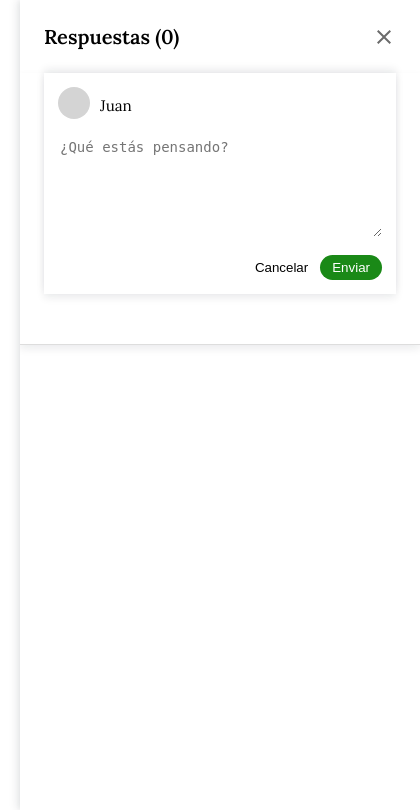
ItemComment › cancela y limpia el textarea
In the text box with placeholder "¿Qué estás pensando?": (220, 187) [58,137,382,237], type "texto temporal"
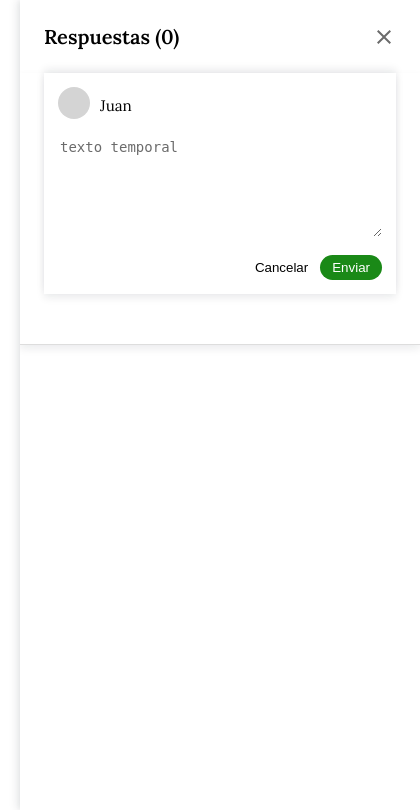
Click the button "Cancelar": (282, 268) [243,255,320,280]
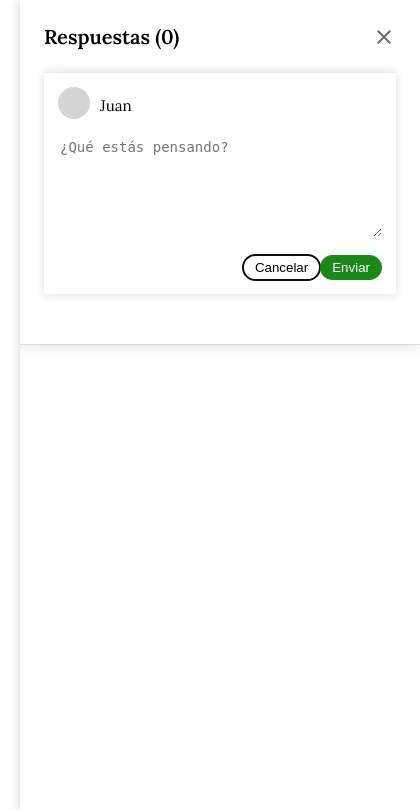
expect the text box with placeholder "¿Qué estás pensando?" is empty: met, box [58,137,382,237]
